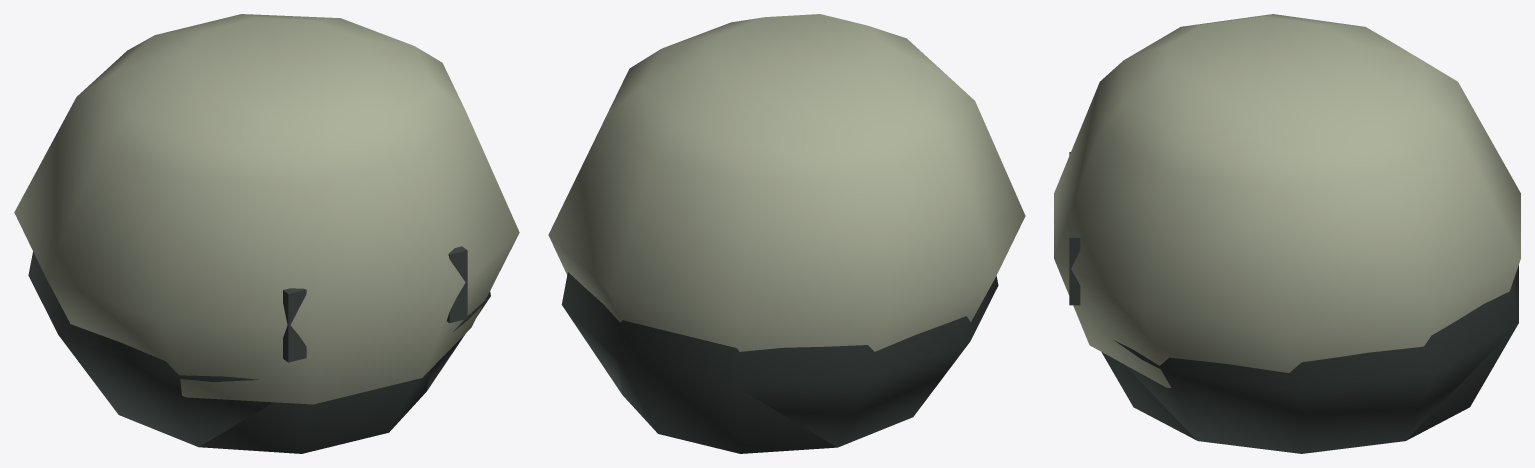
Rendered from pikeman.obj.
3 renders of one model, left to right at view 1: azimuth 30°, elevation 25°; view 2: azimuth 150°, elevation 25°; view 3: azimuth 270°, elevation 25°, orthographic. The views are drawn at different scales.
Parts seen in each view (by area): view 1: rigid_shell_001, rigid_shell_000, rigid_shell_002, rigid_shell_006; view 2: rigid_shell_001, rigid_shell_000; view 3: rigid_shell_001, rigid_shell_000, rigid_shell_006.
Boxes of the visible parts, bbox=[...] form: rigid_shell_001: bbox=[14, 14, 519, 404]; rigid_shell_000: bbox=[28, 251, 490, 453]; rigid_shell_002: bbox=[283, 288, 306, 362]; rigid_shell_006: bbox=[447, 246, 467, 323]; rigid_shell_001: bbox=[548, 14, 1025, 351]; rigid_shell_000: bbox=[561, 272, 998, 453]; rigid_shell_001: bbox=[1054, 14, 1520, 387]; rigid_shell_000: bbox=[1101, 265, 1518, 453]; rigid_shell_006: bbox=[1069, 229, 1080, 305].
Size of the model in its own units: 0.88 by 0.64 by 0.8179.
